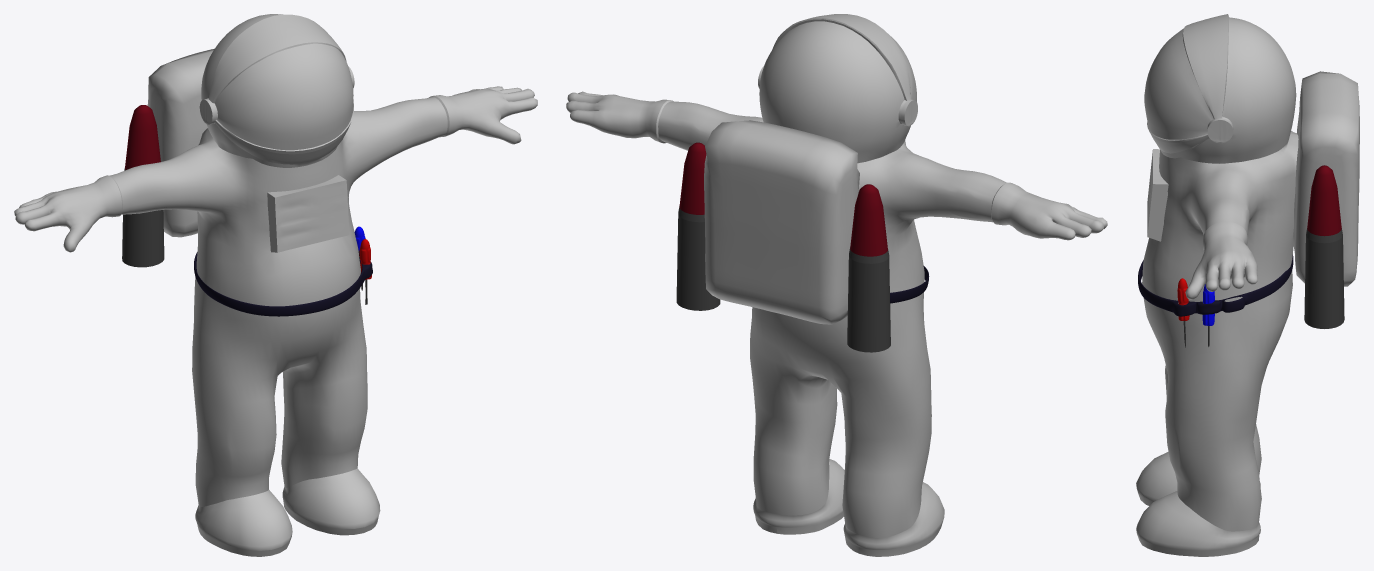
The model's file is AstroCrewZeroFour.fbx.
3 renders of one model, left to right at view 1: azimuth 30°, elevation 25°; view 2: azimuth 150°, elevation 25°; view 3: azimuth 270°, elevation 25°, orthographic. The views are drawn at different scales.
Parts seen in each view (by area): view 1: Astr01LowPoly2, Astr01LowPoly, Astr01LowPoly6, Astr01LowPoly1, Astr01LowPoly5, Astr01LowPoly3, Astr01LowPoly4, TurbineThrusters2, Belt1; view 2: Astr01LowPoly2, Astr01LowPoly3, Astr01LowPoly1, TurbineThrusters2, Astr01LowPoly5, Astr01LowPoly6; view 3: Astr01LowPoly2, Astr01LowPoly1, Astr01LowPoly3, Astr01LowPoly6, TurbineThrusters2, Astr01LowPoly, Astr01LowPoly5, Belt1, Astr01LowPoly4.
Boxes of the visible parts, x1=… form: Astr01LowPoly2: x1=109, y1=97, x2=447, y2=507; Astr01LowPoly: x1=214, y1=43, x2=353, y2=150; Astr01LowPoly6: x1=195, y1=468, x2=380, y2=556; Astr01LowPoly1: x1=199, y1=14, x2=354, y2=167; Astr01LowPoly5: x1=14, y1=86, x2=537, y2=252; Astr01LowPoly3: x1=147, y1=48, x2=214, y2=237; Astr01LowPoly4: x1=267, y1=175, x2=349, y2=252; TurbineThrusters2: x1=122, y1=105, x2=164, y2=267; Belt1: x1=194, y1=226, x2=372, y2=316; Astr01LowPoly2: x1=658, y1=101, x2=1007, y2=537; Astr01LowPoly3: x1=704, y1=120, x2=859, y2=324; Astr01LowPoly1: x1=758, y1=14, x2=917, y2=163; TurbineThrusters2: x1=676, y1=142, x2=890, y2=352; Astr01LowPoly5: x1=566, y1=91, x2=1107, y2=240; Astr01LowPoly6: x1=753, y1=459, x2=944, y2=556; Astr01LowPoly2: x1=1142, y1=131, x2=1298, y2=531; Astr01LowPoly1: x1=1147, y1=14, x2=1296, y2=163; Astr01LowPoly3: x1=1292, y1=71, x2=1359, y2=286; Astr01LowPoly6: x1=1136, y1=451, x2=1260, y2=556; TurbineThrusters2: x1=1304, y1=165, x2=1344, y2=328; Astr01LowPoly: x1=1144, y1=28, x2=1213, y2=139; Astr01LowPoly5: x1=1185, y1=221, x2=1257, y2=299; Belt1: x1=1138, y1=255, x2=1293, y2=347; Astr01LowPoly4: x1=1147, y1=149, x2=1168, y2=241.
Size of the model in its own units: 7.93 by 7.28 by 2.96.
